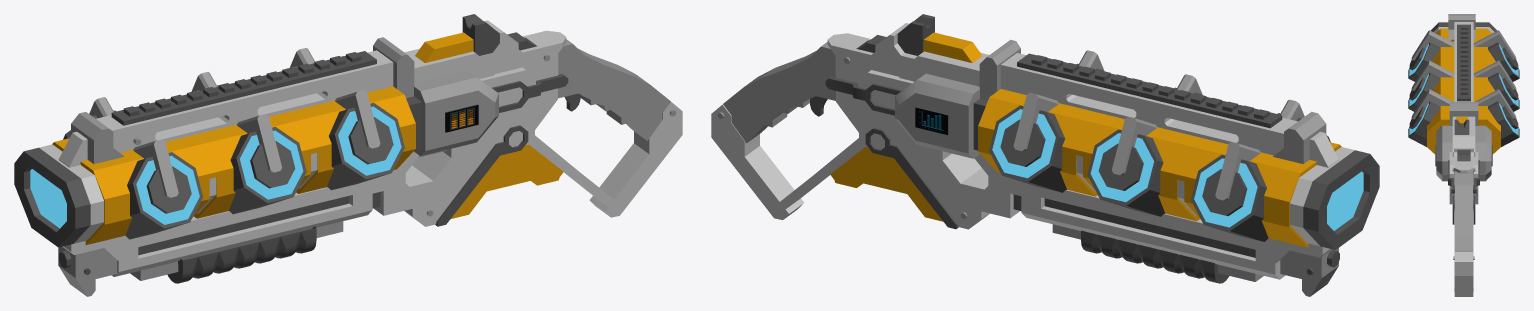
The picture shows the model from 3 angles, left to right: view 1: azimuth 30°, elevation 25°; view 2: azimuth 150°, elevation 25°; view 3: azimuth 270°, elevation 25°; orthographic projection. The views are drawn at different scales.
Parts seen in each view (by area): view 1: SM_EG01; view 2: SM_EG01; view 3: SM_EG01.
Boxes of the visible parts, x1,y1,x2,y2 form: SM_EG01: (14, 14, 682, 296); SM_EG01: (711, 14, 1379, 296); SM_EG01: (1408, 14, 1519, 296).
Bounding box in the file's own units: 76.87 × 26.28 × 19.7.
6 materials, 1 textured.
